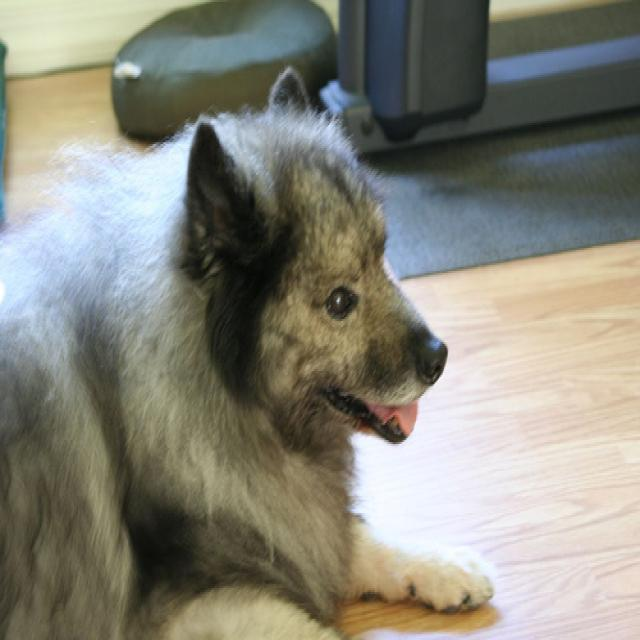dog-keeshond: (1, 56, 497, 636)
